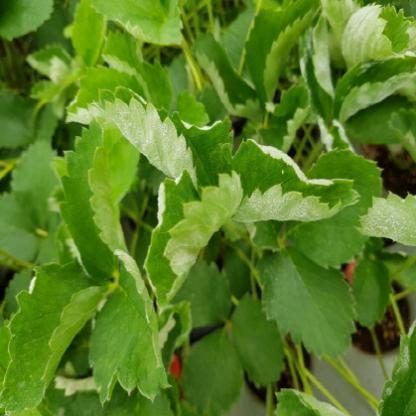Strawberry_Powdery_Mildew_Leaf: (143, 168, 243, 311), (88, 248, 174, 406), (94, 85, 214, 195), (210, 138, 362, 223), (190, 30, 261, 119), (332, 48, 415, 121), (64, 64, 147, 124), (375, 318, 415, 416), (258, 82, 312, 154), (299, 14, 334, 124), (353, 191, 415, 247), (274, 387, 350, 415), (46, 374, 101, 409), (316, 116, 358, 156), (160, 311, 184, 379)
